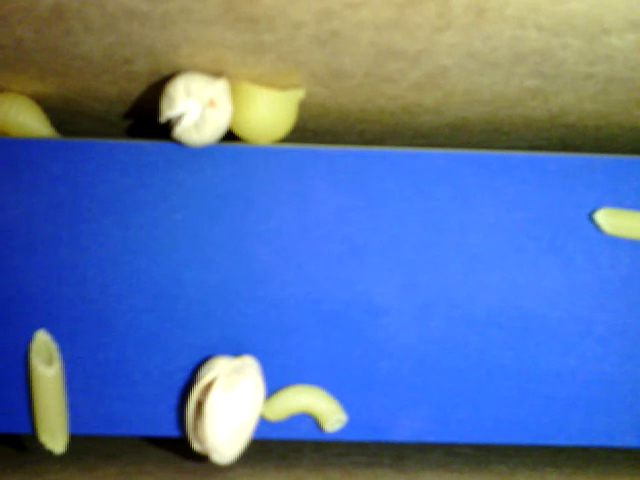elbow: (260, 381, 346, 435)
penne: (27, 328, 71, 454), (590, 203, 639, 241)
shell: (229, 77, 305, 144), (1, 91, 65, 139)
